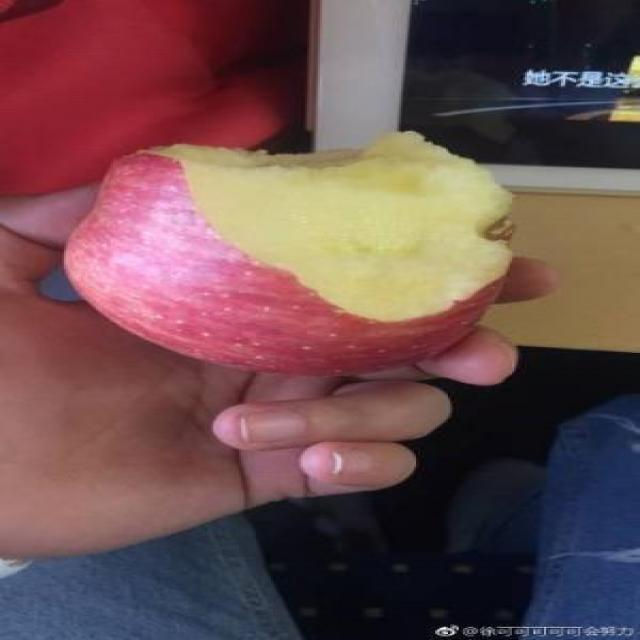Rotten: (51, 117, 520, 378)
